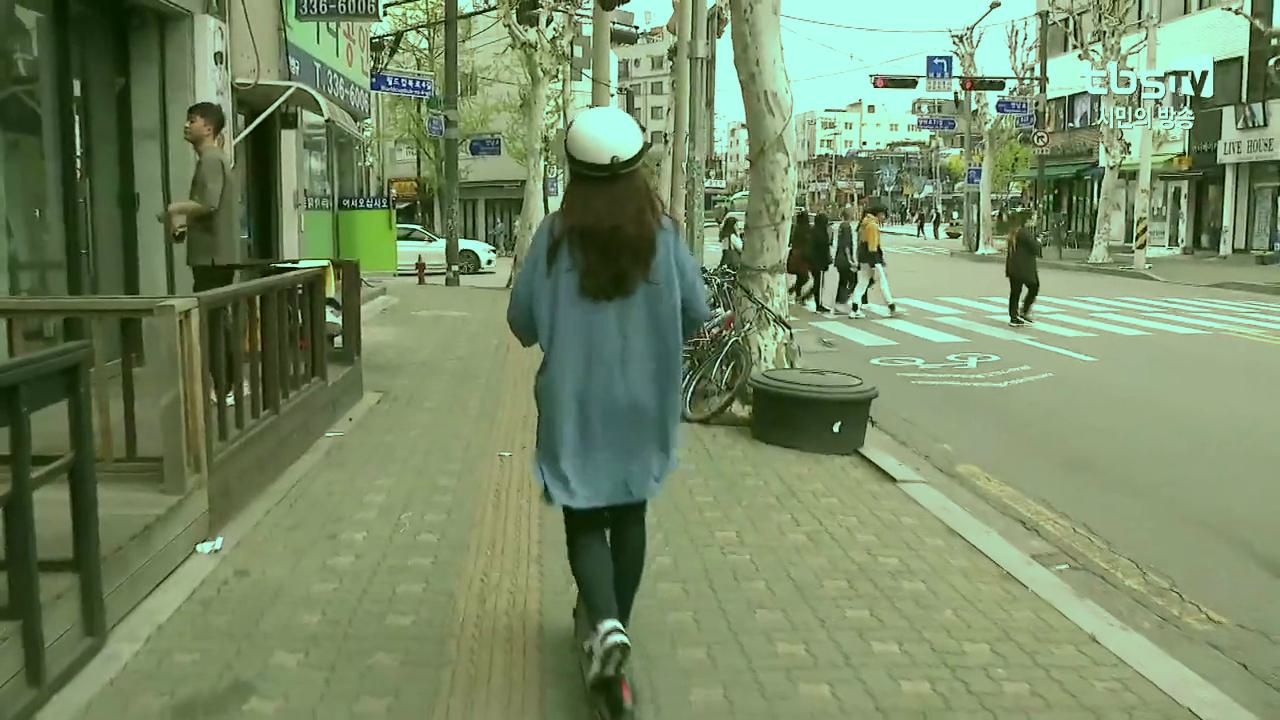helmet: (506, 102, 716, 720)
